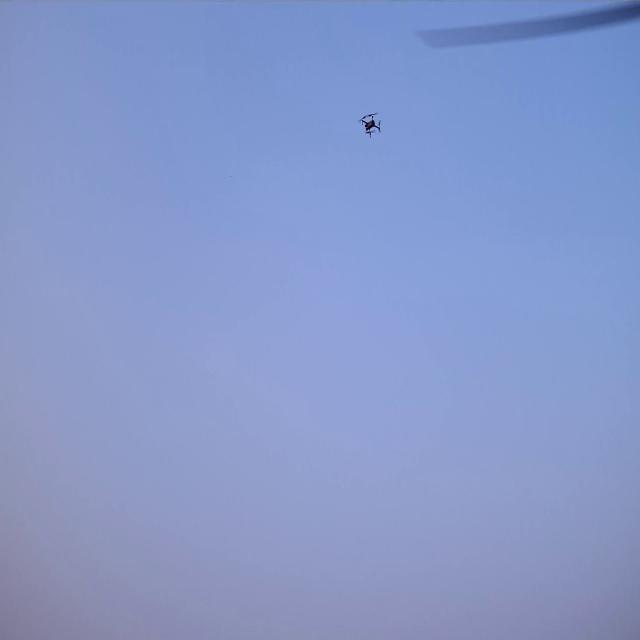UAV: (362, 114, 379, 137)
